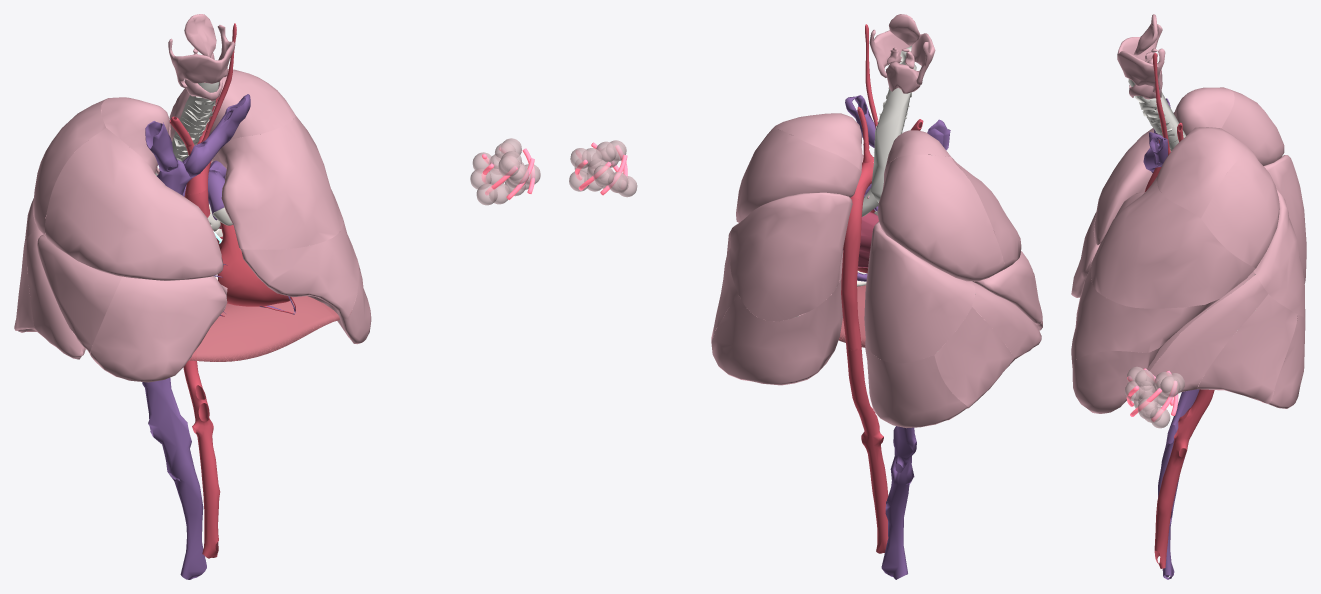
Rendered from cardiopulmonary.glb.
The picture shows the model from 3 angles, left to right: view 1: azimuth 30°, elevation 25°; view 2: azimuth 150°, elevation 25°; view 3: azimuth 270°, elevation 25°; orthographic projection. The views are drawn at different scales.
Parts seen in each view (by area): view 1: Lungs_Parenchyma_R, Lungs_Parenchyma_L, Great_Veins_Pulmonary, Diaphragm_Dome, Great_Arteries_Coronary, Alveolar_Sacs_Mesh, Heart_Ventricles, Trachea_Bronchial_Tree, Alveolar_Capillaries; view 2: Lungs_Parenchyma_R, Lungs_Parenchyma_L, Great_Arteries_Coronary, Great_Veins_Pulmonary, Trachea_Bronchial_Tree, Alveolar_Sacs_Mesh, Alveolar_Capillaries, Heart_Atria; view 3: Lungs_Parenchyma_L, Lungs_Parenchyma_R, Great_Arteries_Coronary, Alveolar_Sacs_Mesh, Great_Veins_Pulmonary, Trachea_Bronchial_Tree, Alveolar_Capillaries.
Part boxes in pixels (x1,y1,x2,y2): Lungs_Parenchyma_R: (14,48,227,382); Lungs_Parenchyma_L: (156,14,371,344); Great_Veins_Pulmonary: (142,94,295,579); Diaphragm_Dome: (189,296,339,361); Great_Arteries_Coronary: (169,23,295,558); Alveolar_Sacs_Mesh: (470,138,540,205); Heart_Ventricles: (216,222,291,306); Trachea_Bronchial_Tree: (155,82,219,175); Alveolar_Capillaries: (481,147,534,199); Lungs_Parenchyma_R: (864,48,1042,428); Lungs_Parenchyma_L: (711,14,935,385); Great_Arteries_Coronary: (841,24,923,553); Great_Veins_Pulmonary: (843,95,950,579); Trachea_Bronchial_Tree: (796,45,975,351); Alveolar_Sacs_Mesh: (569,140,637,197); Alveolar_Capillaries: (575,142,627,195); Heart_Atria: (858,212,878,268); Lungs_Parenchyma_L: (1071,14,1305,413); Lungs_Parenchyma_R: (1071,48,1306,297); Great_Arteries_Coronary: (1145,52,1214,568); Alveolar_Sacs_Mesh: (1125,366,1184,428); Great_Veins_Pulmonary: (1143,98,1199,579); Trachea_Bronchial_Tree: (1128,79,1255,330); Alveolar_Capillaries: (1126,368,1178,421).
Size of the model in its own units: 1.95 by 2.23 by 0.8481.
